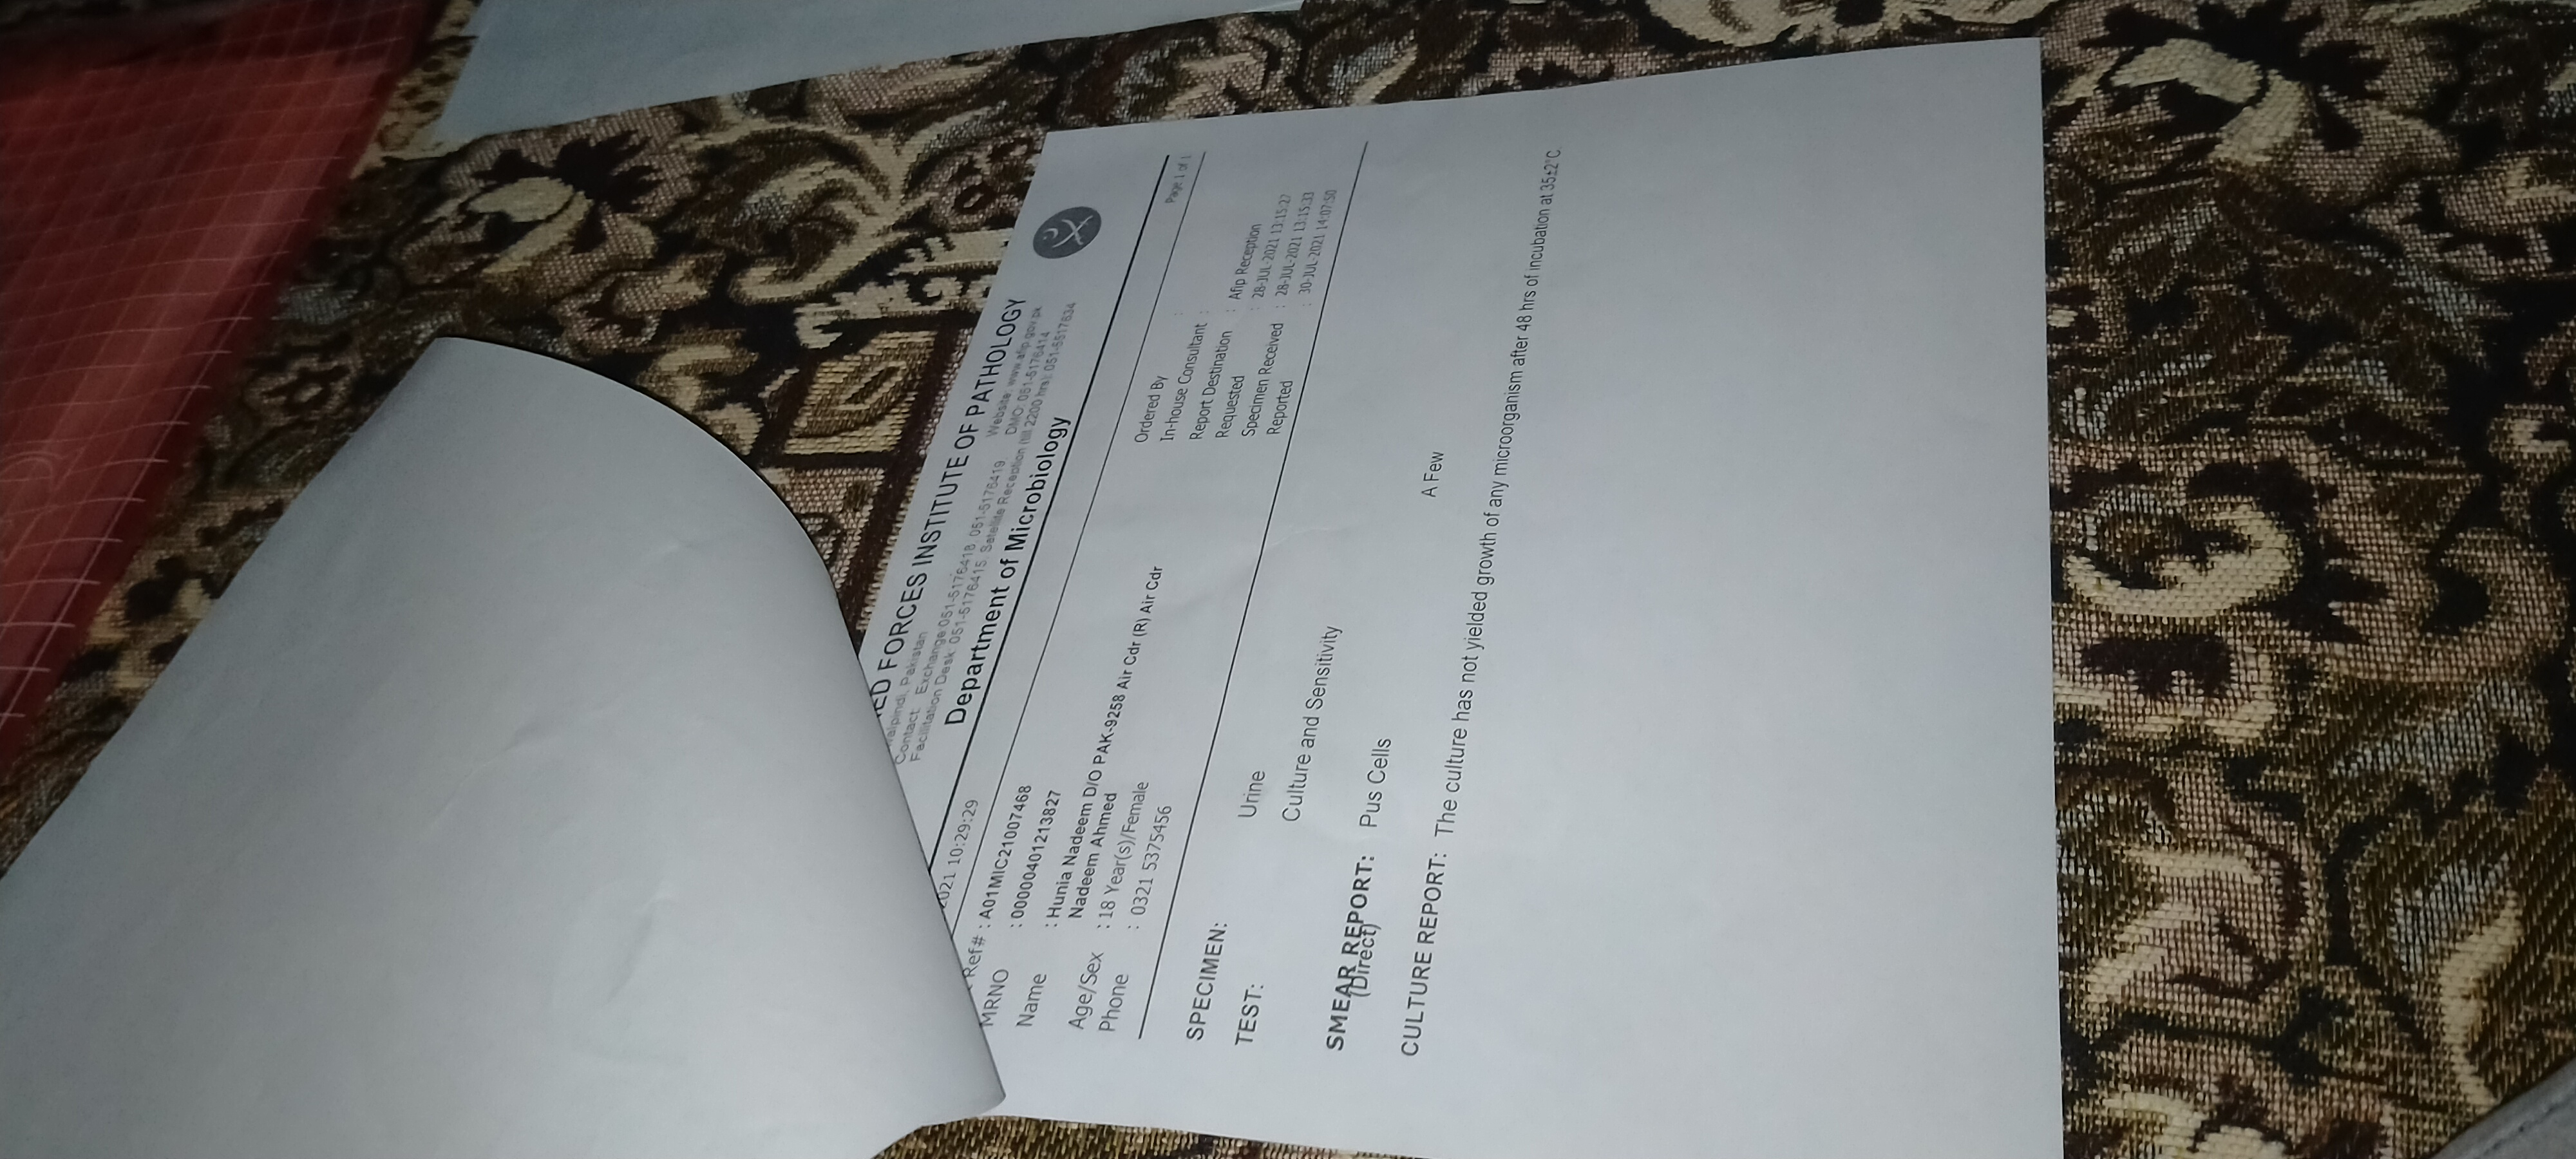report: (1157, 82, 1612, 1082)
